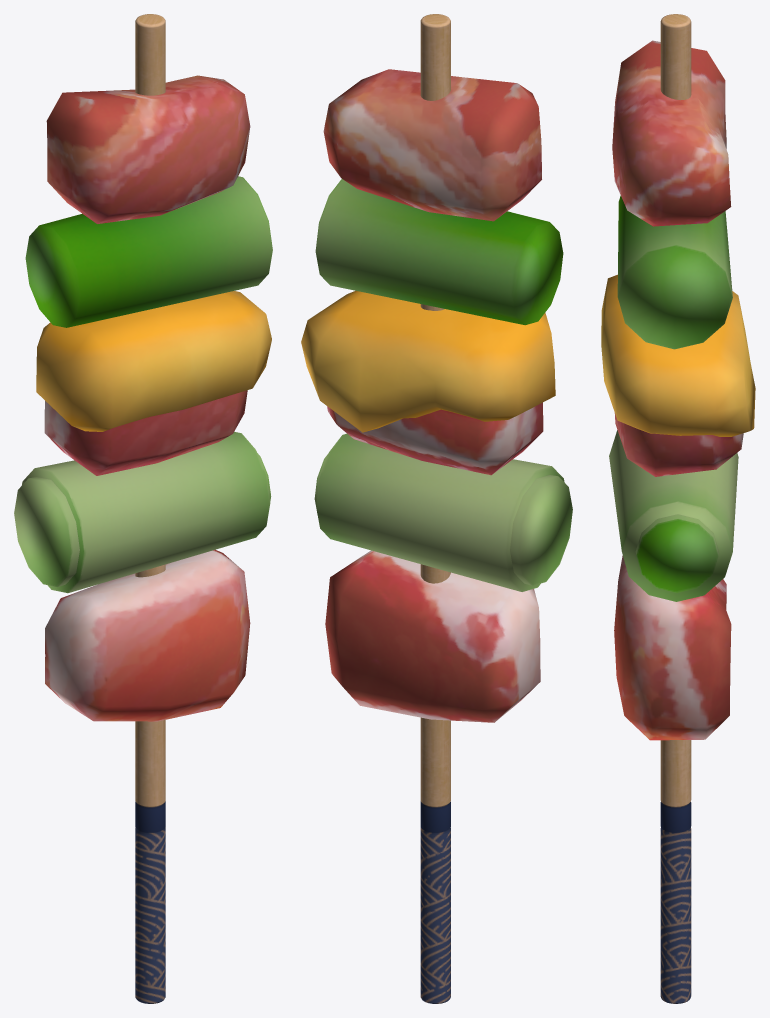
File: JapaneseRestaurant_KushiC.fbx
3 views of the same model, side by side, from view 1: azimuth 30°, elevation 25°; view 2: azimuth 150°, elevation 25°; view 3: azimuth 270°, elevation 25° (orthographic).
Visible parts, largest first — view 1: JapaneseRestaurant_KushiC; view 2: JapaneseRestaurant_KushiC; view 3: JapaneseRestaurant_KushiC.
Boxes of the visible parts, box(x1,y1,x2,y2) form: JapaneseRestaurant_KushiC: box(14, 14, 272, 1003); JapaneseRestaurant_KushiC: box(301, 14, 572, 1003); JapaneseRestaurant_KushiC: box(601, 14, 755, 1003).
Bounding box in the file's own units: 6.34 × 26.4 × 3.77.
